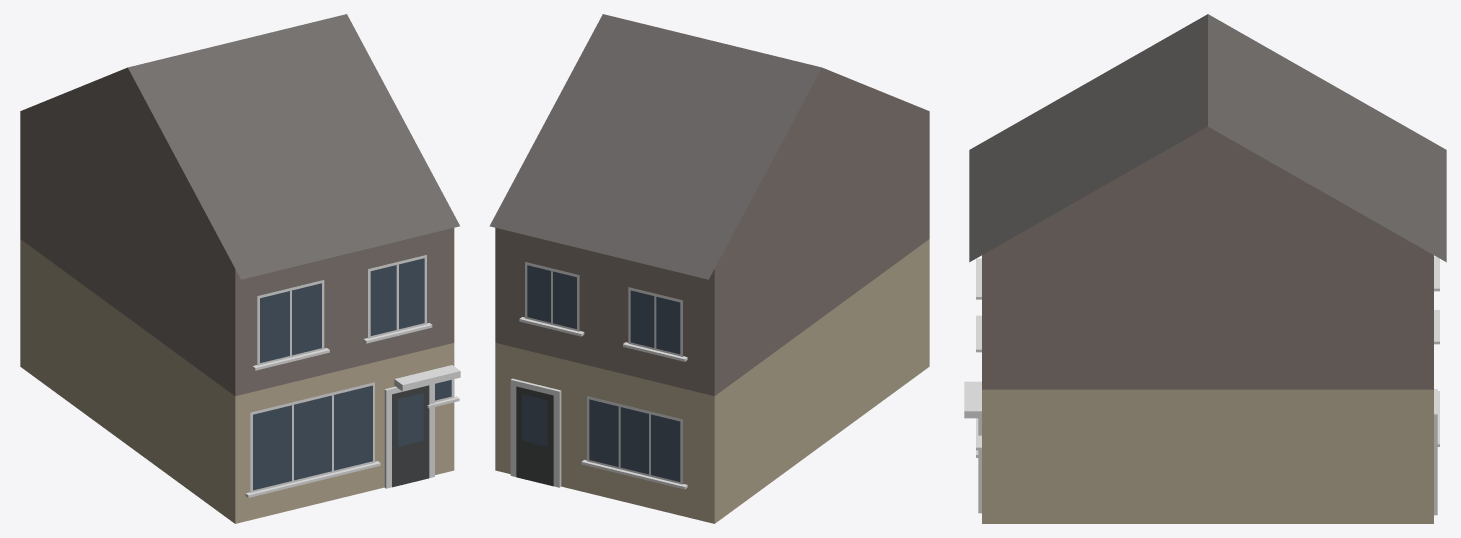
File: zo-rb-two-tone__snelleveld__2__gable__long__solid.glb
The picture shows the model from 3 angles, left to right: view 1: azimuth 30°, elevation 25°; view 2: azimuth 150°, elevation 25°; view 3: azimuth 270°, elevation 25°; orthographic projection. The views are drawn at different scales.
Parts seen in each view (by area): view 1: zo-rb-two-tone__snelleveld__2__gable__long__solid; view 2: zo-rb-two-tone__snelleveld__2__gable__long__solid; view 3: zo-rb-two-tone__snelleveld__2__gable__long__solid.
Part boxes in pixels (box(x1,y1,x2,y2)): zo-rb-two-tone__snelleveld__2__gable__long__solid: box(20, 14, 460, 523); zo-rb-two-tone__snelleveld__2__gable__long__solid: box(489, 14, 929, 523); zo-rb-two-tone__snelleveld__2__gable__long__solid: box(964, 14, 1446, 523).
Size of the model in its own units: 5.36 by 8.73 by 9.6.
